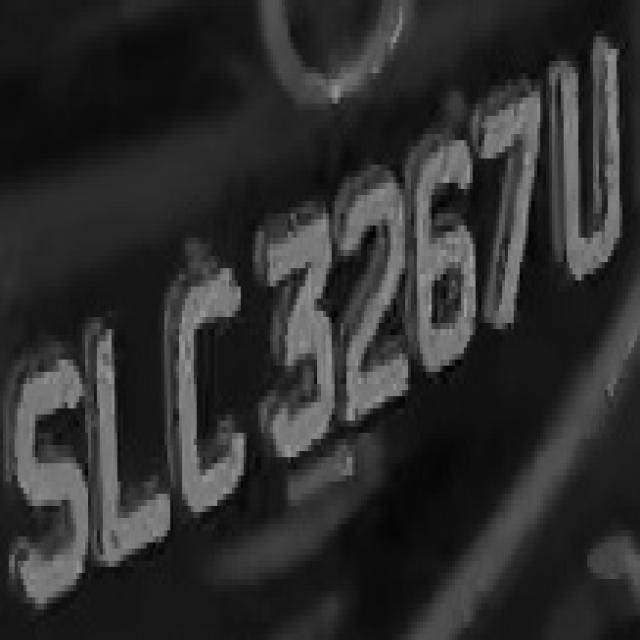2: (335, 183, 414, 439)
3: (258, 220, 346, 470)
6: (408, 128, 484, 396)
7: (458, 104, 549, 317)
C: (170, 280, 262, 530)
L: (91, 305, 173, 573)
S: (12, 348, 91, 616)
U: (546, 55, 637, 286)
